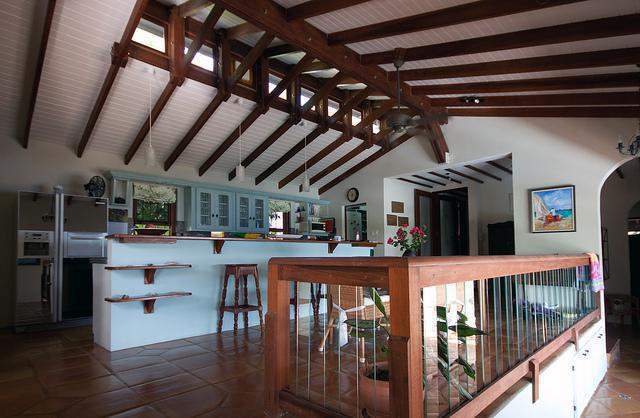Matera: (348, 290, 472, 414)
